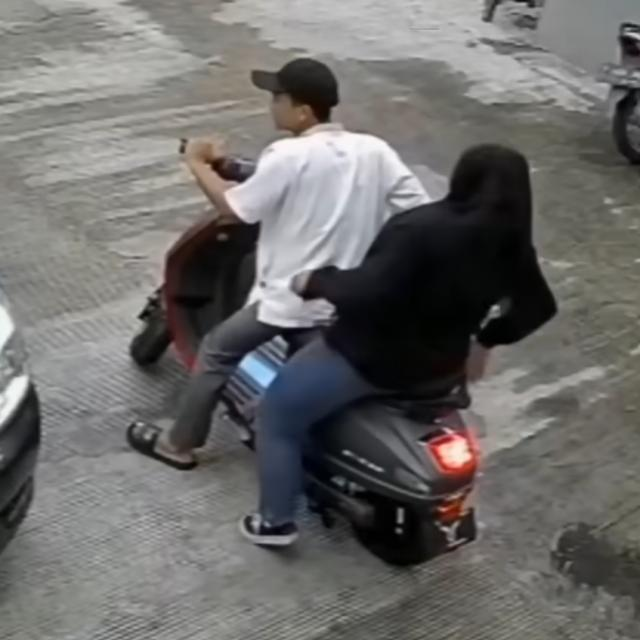WithoutHelmet: (236, 142, 560, 545), (126, 54, 432, 473)
